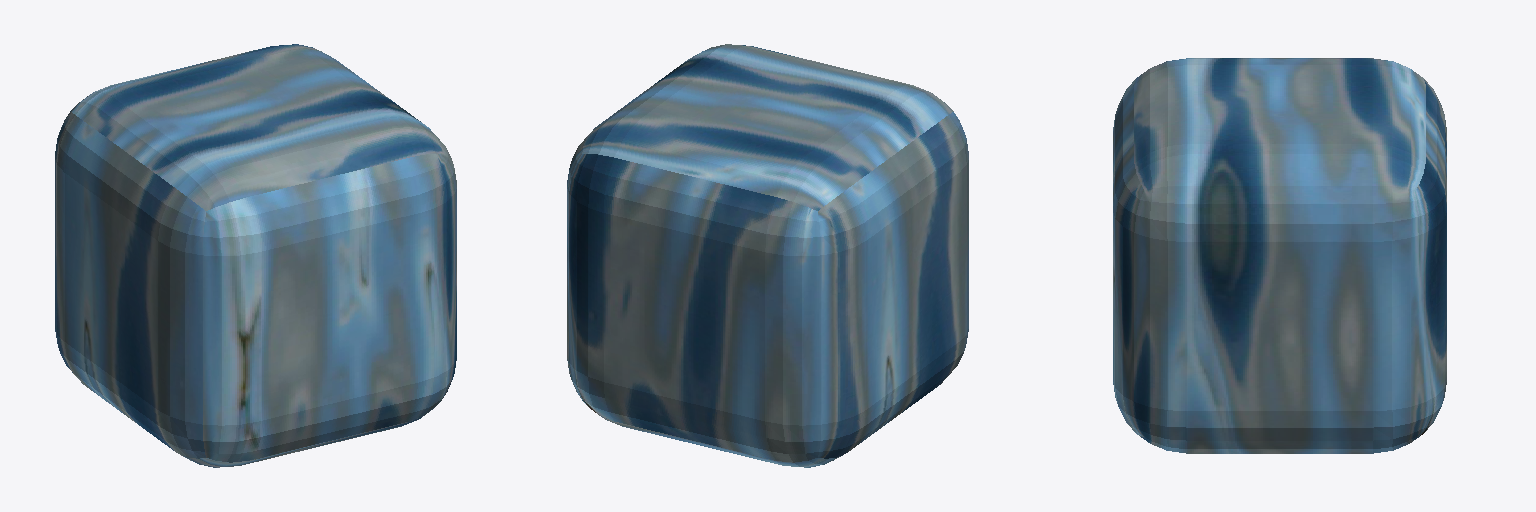
The picture shows the model from 3 angles: view 1: azimuth 30°, elevation 25°; view 2: azimuth 150°, elevation 25°; view 3: azimuth 270°, elevation 25°; orthographic projection.
Parts seen in each view (by area): view 1: Cube; view 2: Cube; view 3: Cube.
Boxes of the visible parts, x1=… form: Cube: x1=55, y1=44, x2=456, y2=467; Cube: x1=567, y1=44, x2=968, y2=467; Cube: x1=1113, y1=58, x2=1446, y2=453.
Size of the model in its own units: 2 by 2 by 2.
Materials: 1 (1 with a texture image).